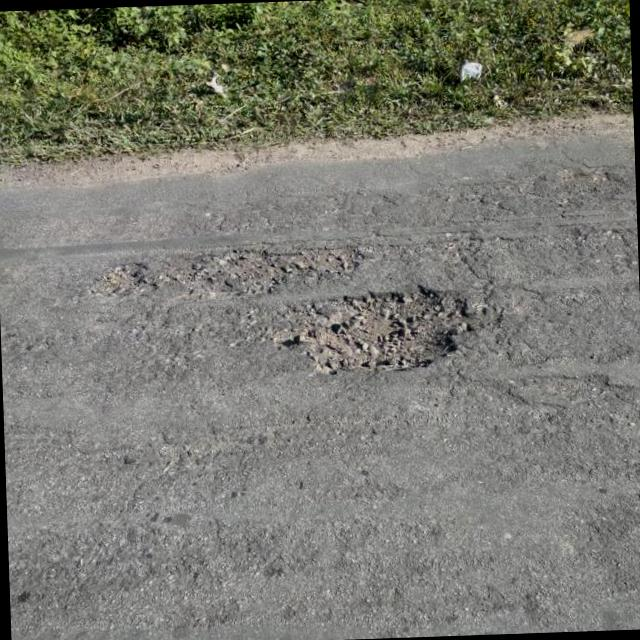pothole: (288, 280, 483, 378), (172, 240, 368, 298), (82, 258, 162, 304)
